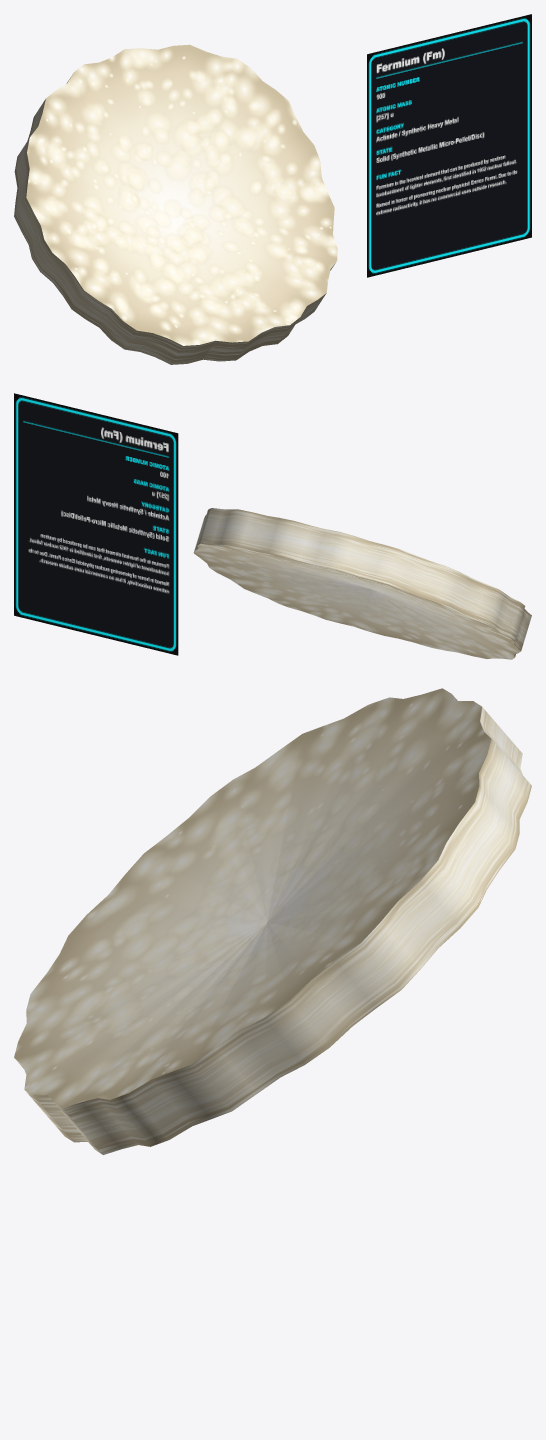
Rendered from fermium.glb.
3 renders of one model, top to bottom at view 1: azimuth 30°, elevation 25°; view 2: azimuth 150°, elevation 25°; view 3: azimuth 270°, elevation 25°, orthographic. The views are drawn at different scales.
Visible parts, largest first — view 1: Mesh_0, Mesh_2; view 2: Mesh_2, Mesh_0; view 3: Mesh_0.
Boxes of the visible parts, box(x1,y1,x2,y2) form: Mesh_0: box(14, 44, 337, 364); Mesh_2: box(367, 14, 531, 277); Mesh_2: box(14, 393, 178, 655); Mesh_0: box(193, 508, 531, 659); Mesh_0: box(14, 688, 531, 1154).
Size of the model in its own units: 2.44 by 1.06 by 1.26.
Materials: 2 (2 with a texture image).
